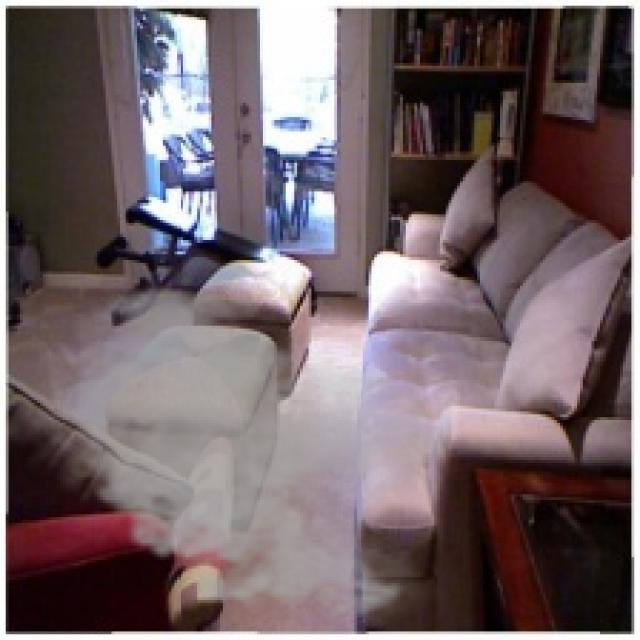smoke: (40, 277, 451, 629)
